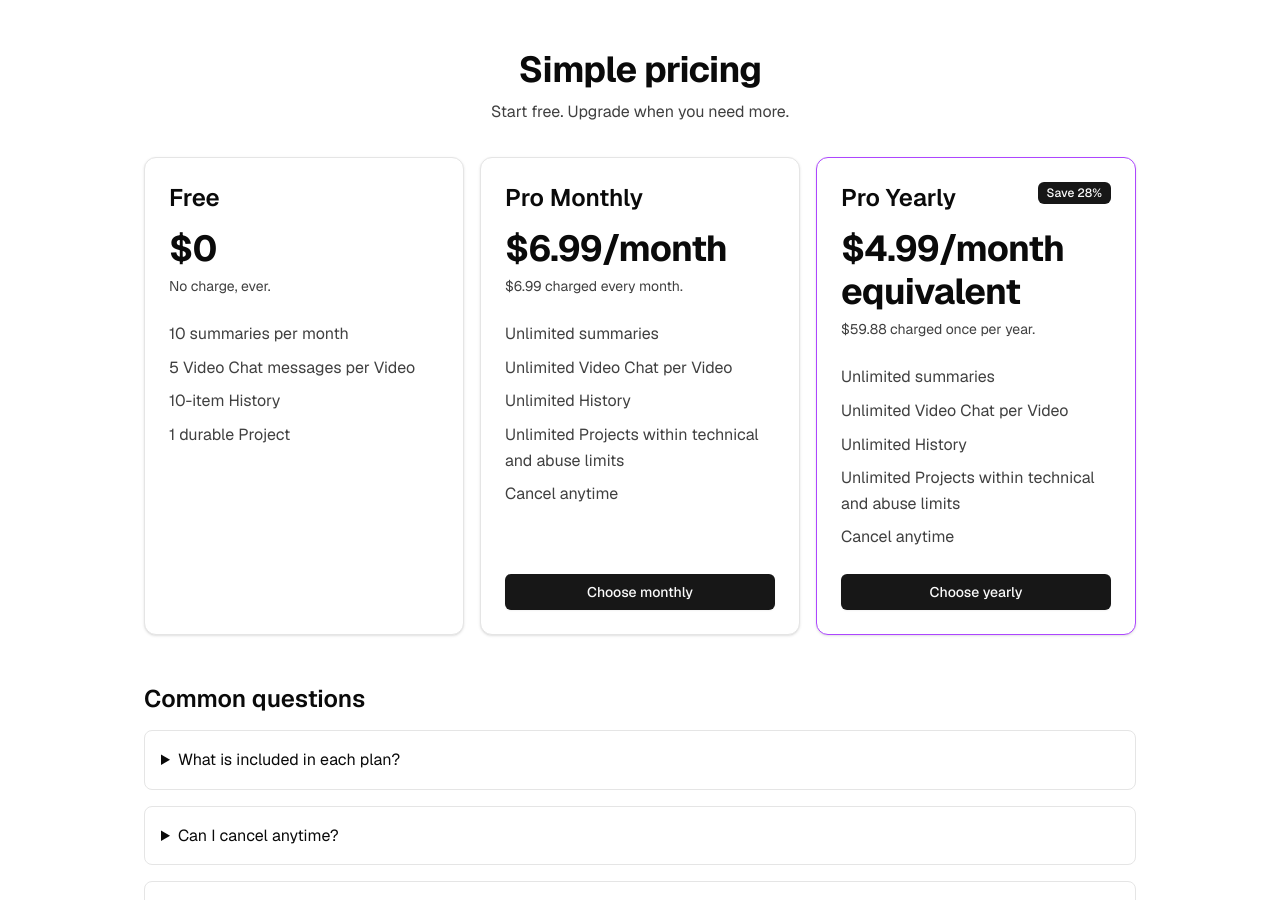
Test: PricingPage › renders an actionable invalid checkout response failure and never starts checkout
Click the button "Choose monthly" at (640, 592), box [505,574,775,610]
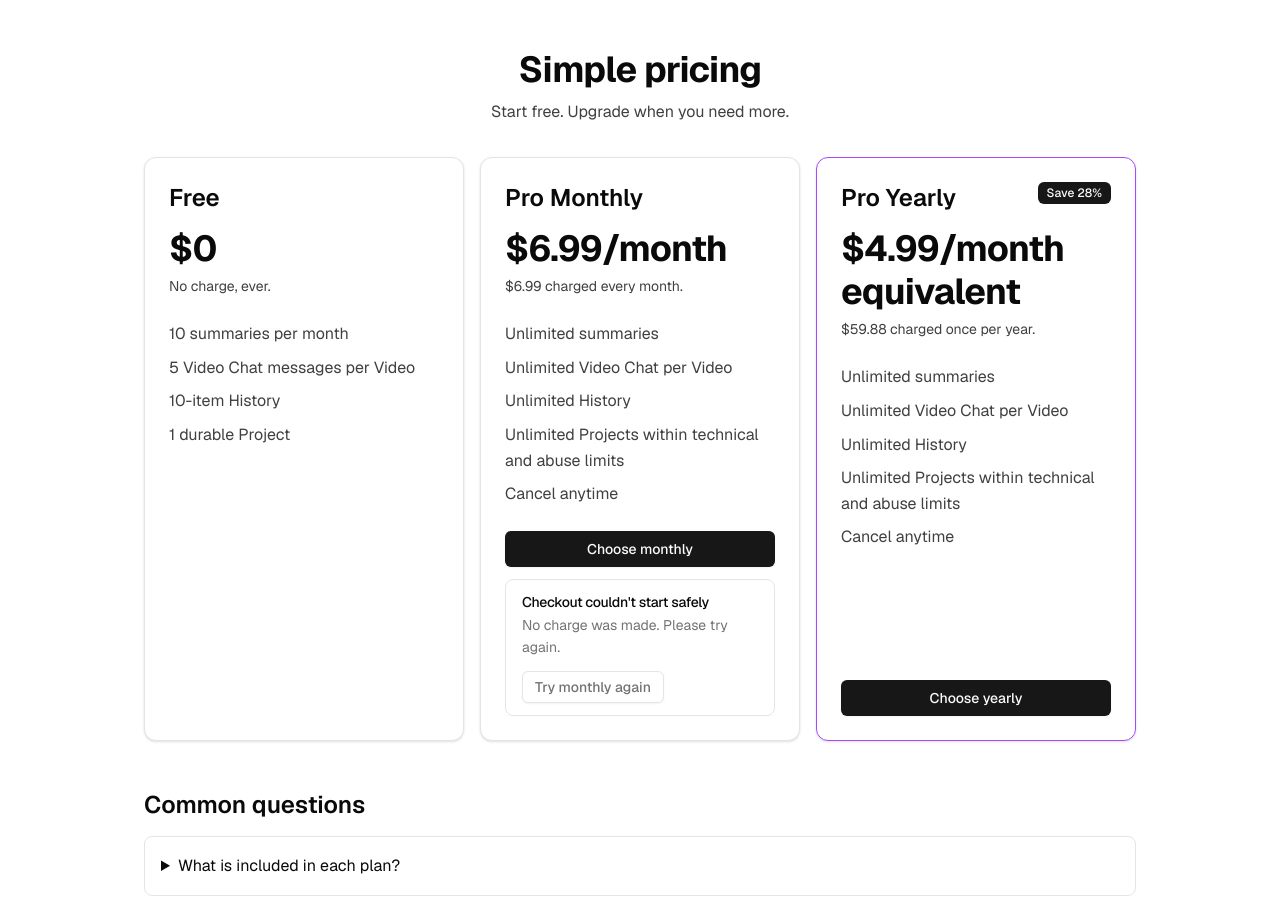
Check: the message shows "couldn't start safely", box [522,593,709,611]
Check: the button "Try monthly again" is shown, box [522,671,664,703]
